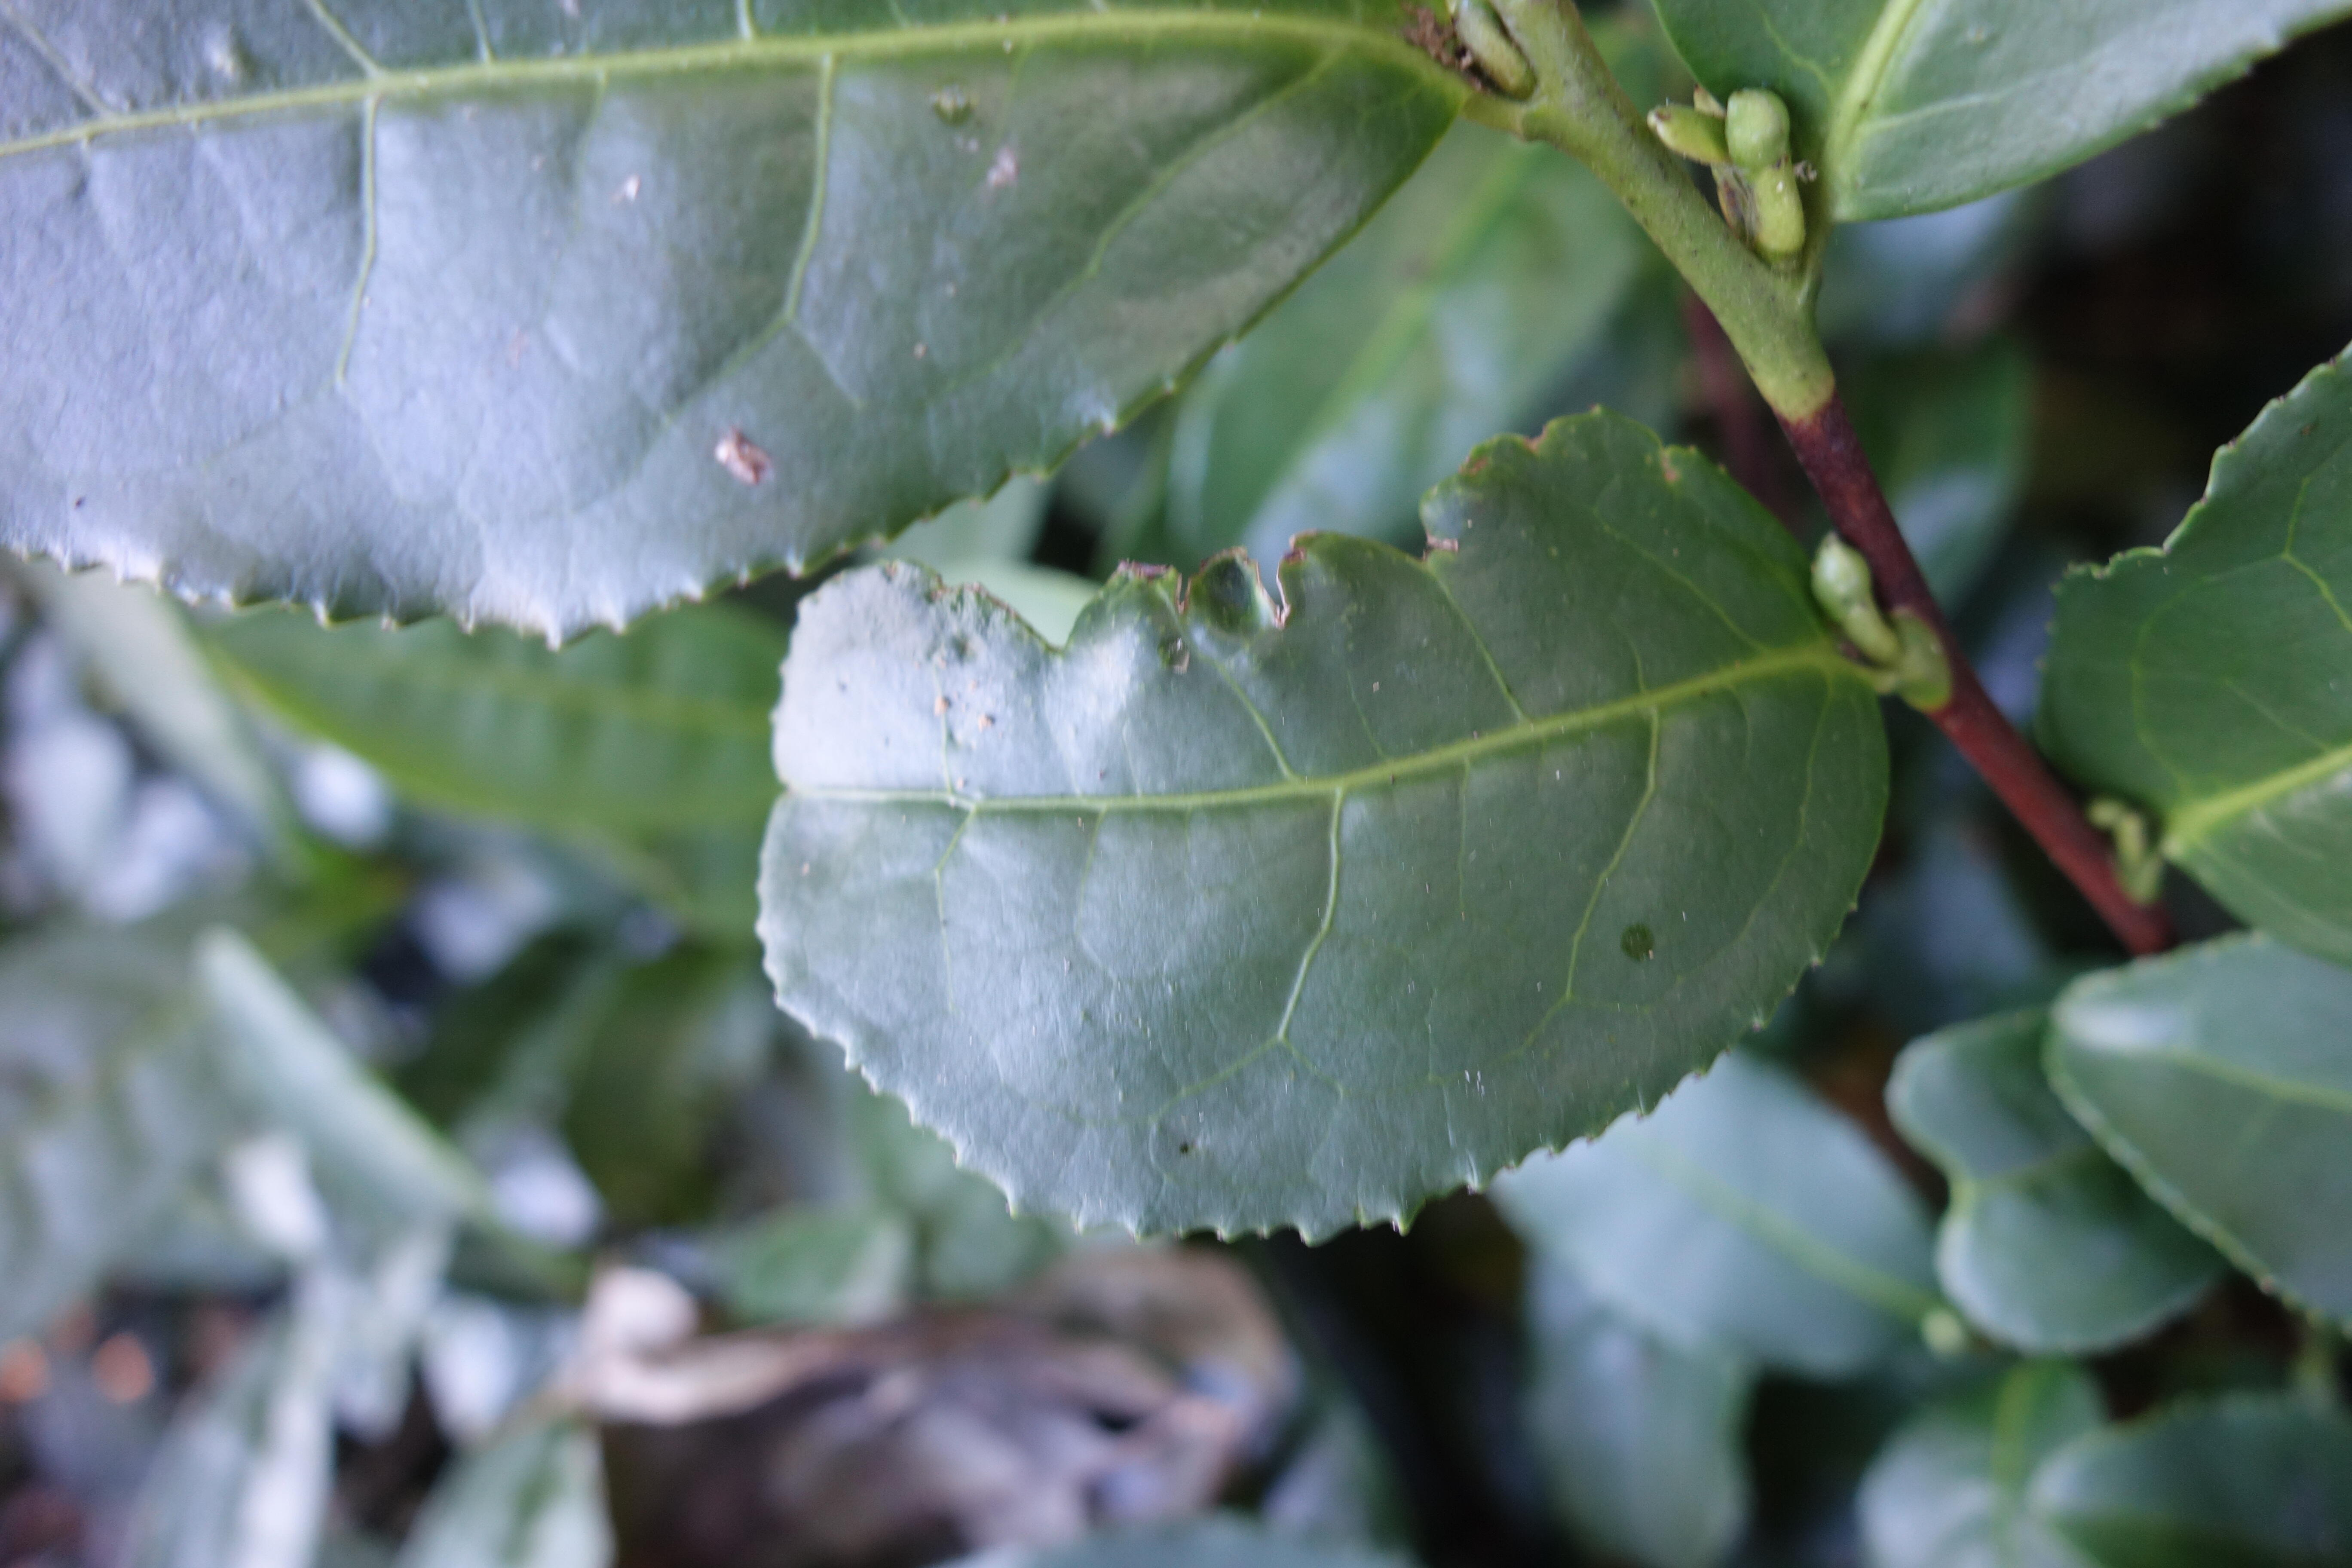chihuo_high: (742, 399, 1892, 1248)
